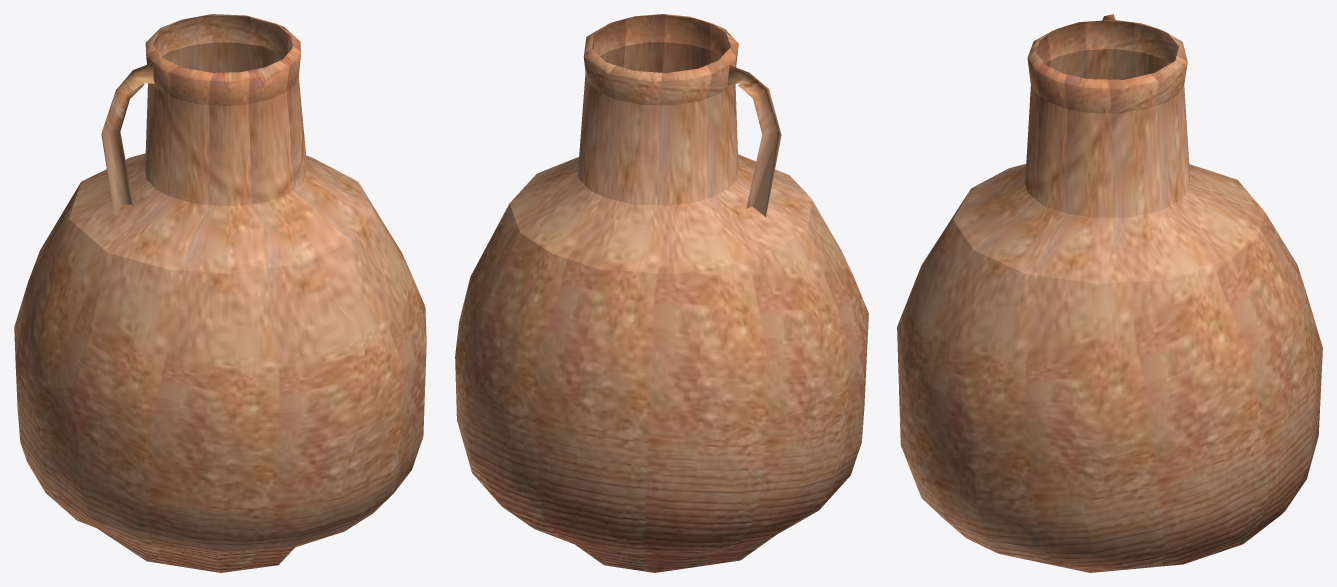
File: jug.glb
The picture shows the model from 3 angles, left to right: view 1: azimuth 30°, elevation 25°; view 2: azimuth 150°, elevation 25°; view 3: azimuth 270°, elevation 25°; orthographic projection. The views are drawn at different scales.
Parts seen in each view (by area): view 1: Sphere; view 2: Sphere; view 3: Sphere.
Boxes of the visible parts, bbox=[...] form: Sphere: bbox=[14, 14, 426, 572]; Sphere: bbox=[455, 14, 868, 572]; Sphere: bbox=[897, 14, 1322, 572].
Size of the model in its own units: 1.57 by 2.04 by 1.57.
Materials: 1 (1 with a texture image).
